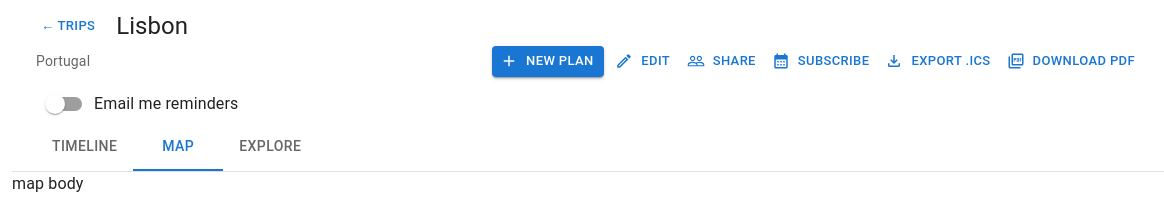
Test: TripDetail › switches back to timeline from the map tab
Expected: the text with test id "outlet" reads "map body", left=12, top=174, right=84, bottom=193
Click the tab "Timeline".
click(85, 147)  # box left=36, top=123, right=133, bottom=171
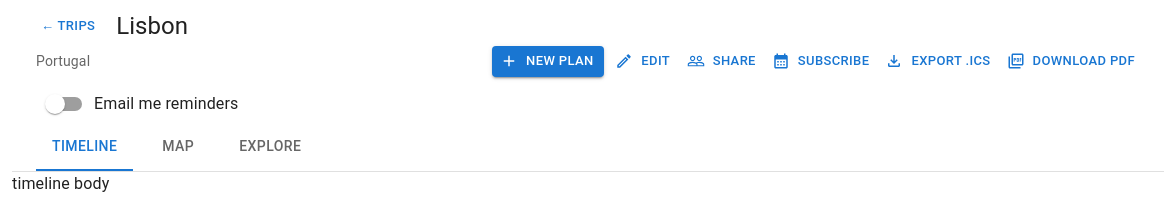
Result: the text with test id "outlet" reads "timeline body" at left=12, top=174, right=109, bottom=193
